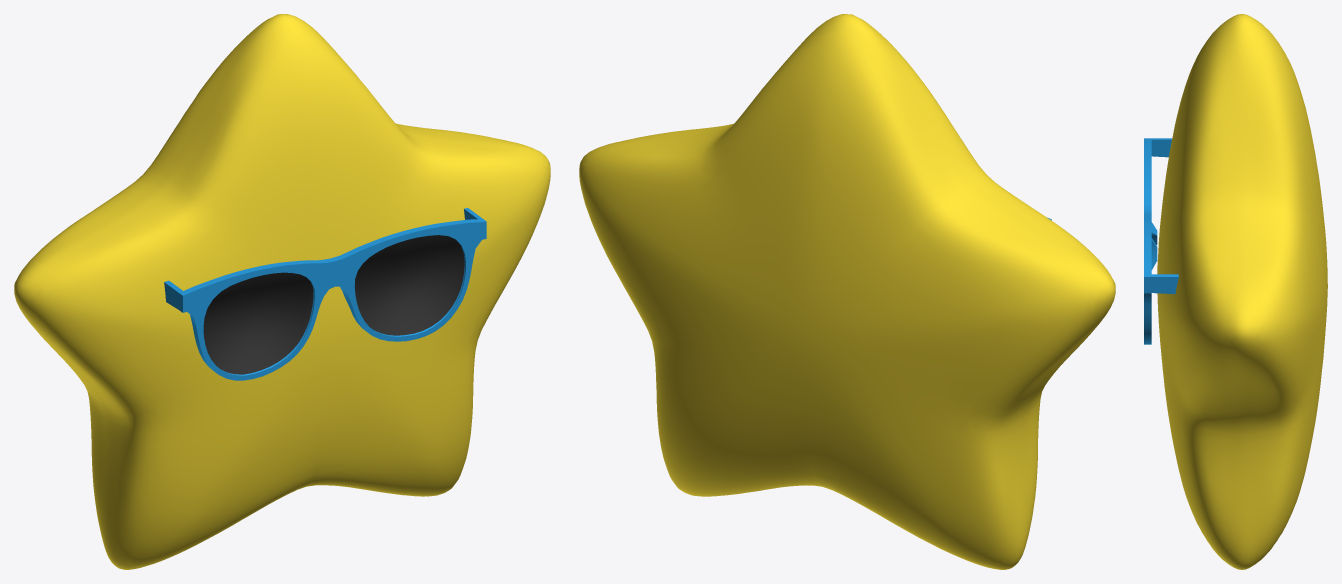
3 views of the same model, side by side, from view 1: azimuth 30°, elevation 25°; view 2: azimuth 150°, elevation 25°; view 3: azimuth 270°, elevation 25° (orthographic). The views are drawn at different scales.
Parts seen in each view (by area): view 1: star; view 2: star; view 3: star.
Part boxes in pixels (<box>): star: <box>14,14,550,569</box>; star: <box>579,14,1115,569</box>; star: <box>1144,14,1327,569</box>.
Size of the model in its own units: 0.2278 by 0.2113 by 0.073.
